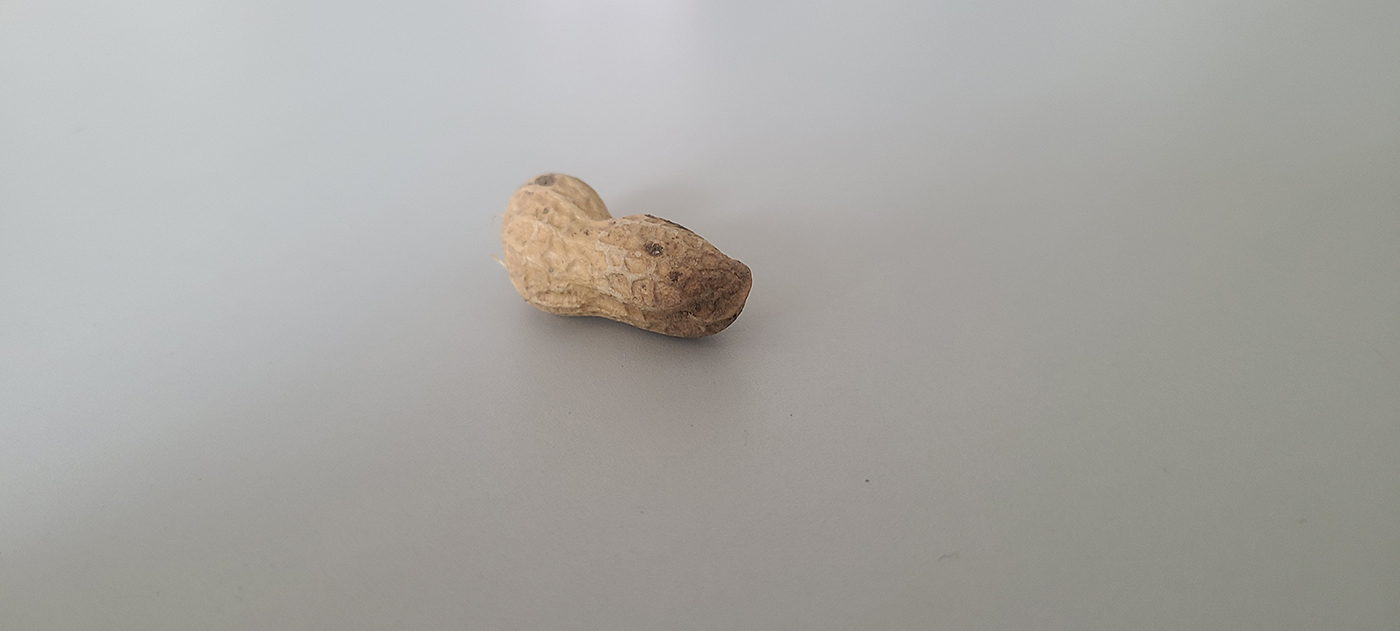h: (502, 172, 755, 338)
